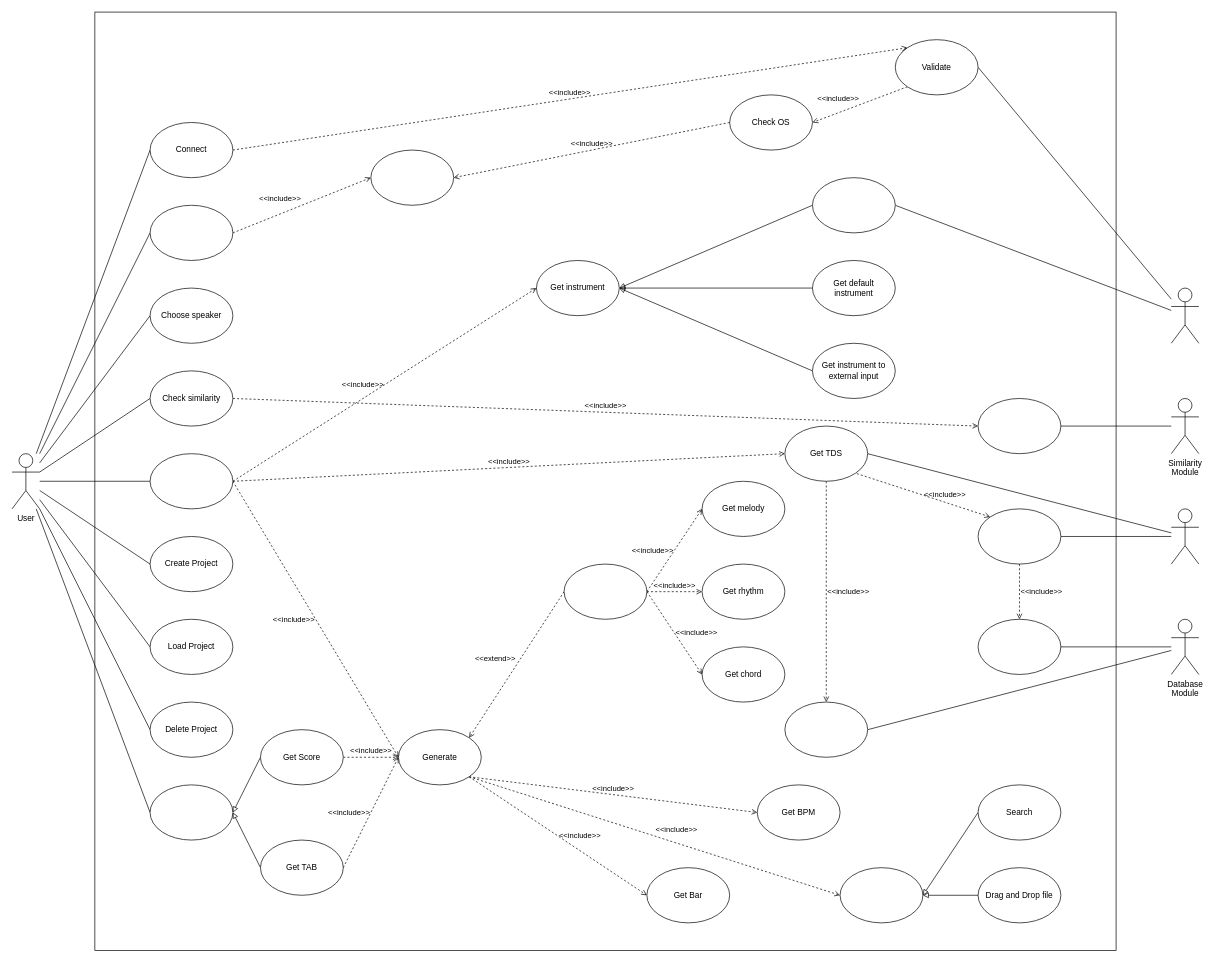
Some shapes in this 1214 by 963 pixel diagram are drawn without their labels. The shapes that lost their labels are listed below. From the top down, each one's centre as x and y in pixels, then its label:
At (412,177): "Get OS".
At (853,205): "Get virtual instrument".
At (191,232): "Check DAW".
At (1185,315): "DAW Module".
At (1019,426): "Calculate similarity".
At (191,481): "Get audio file".
At (1019,536): "Get MDS".
At (1185,536): "AI Module".
At (605,591): "Regenerate".
At (1019,646): "Store MDS".
At (826,729): "Store TDS".
At (191,812): "Get image file".
At (881,895): "Get music sources".
